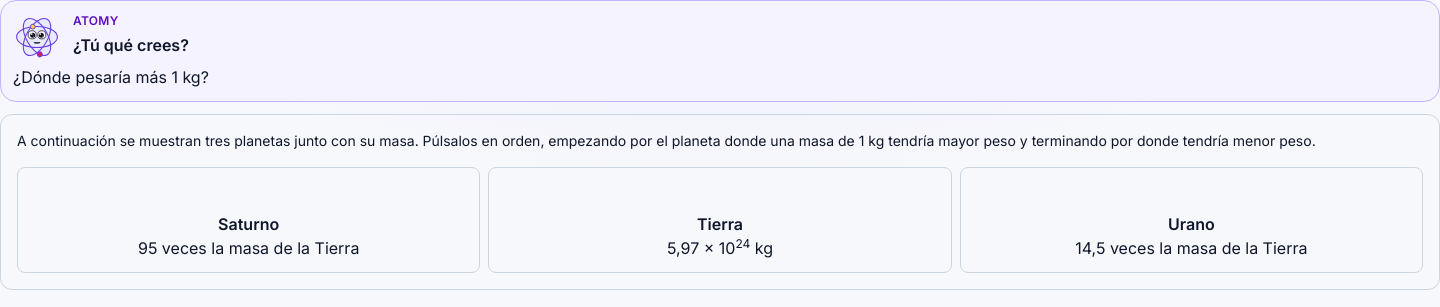
PlanetRanking › tells a screen reader which planets are ranked
Click the button "Tierra 5,97 × 1024 kg": (720, 220) [488,167,952,273]
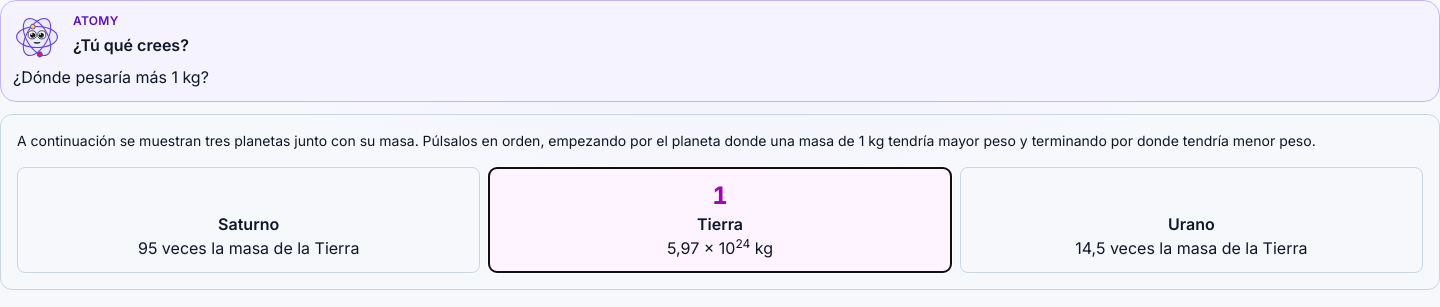
Check: the button "1 Tierra 5,97 × 1024 kg" is pressed, box [488,167,952,273]
